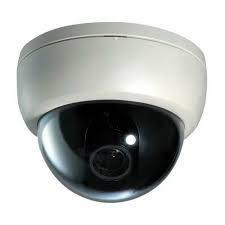CCTV: (18, 23, 207, 203)
